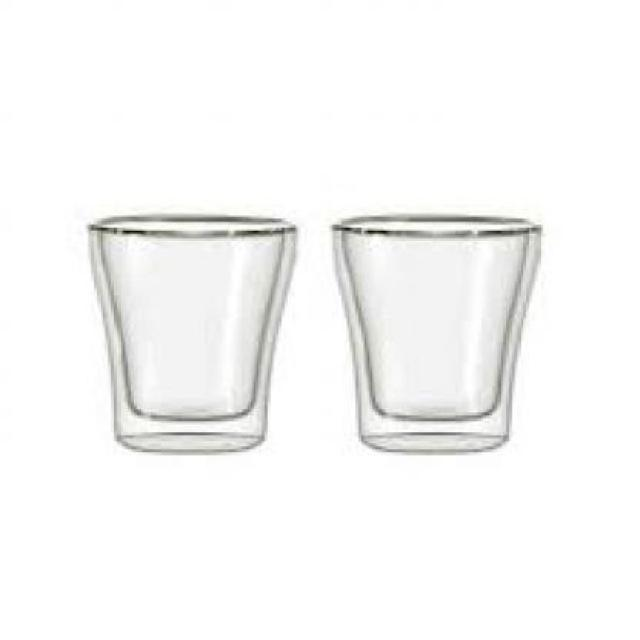kaca: (86, 214, 294, 455), (331, 215, 535, 452)
